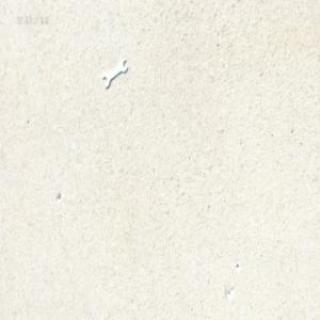Wrenchtrack_idkeyframe: (102, 58, 126, 88)
